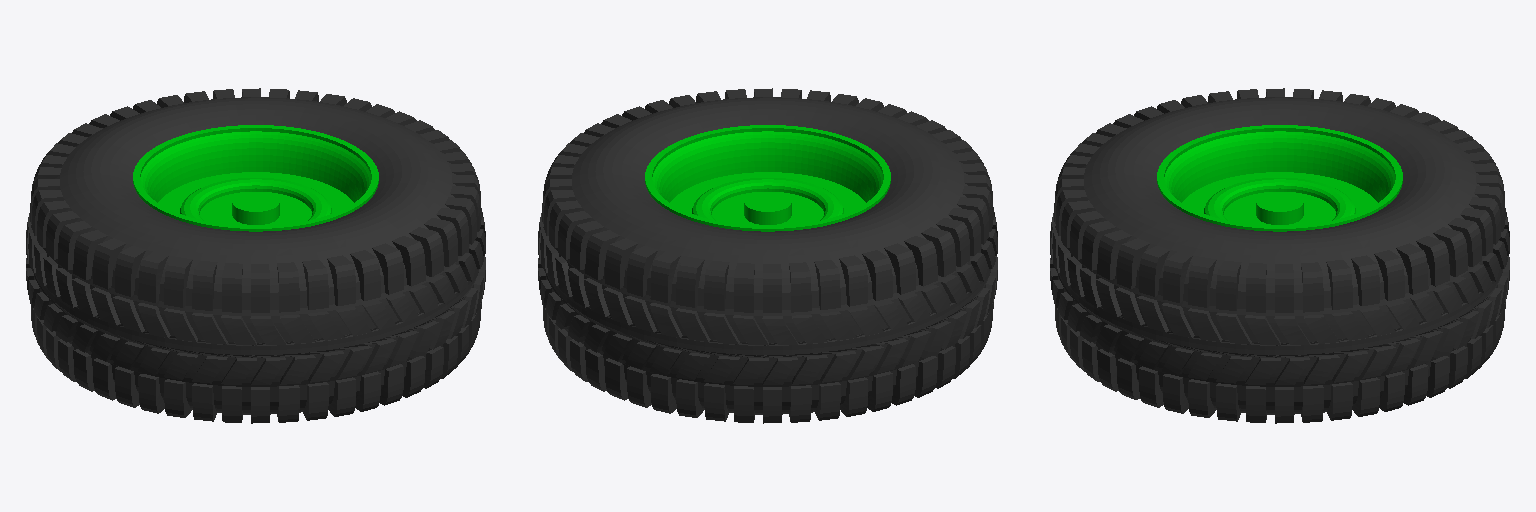
The model's file is wheel_R.obj.
3 views of the same model, side by side, from view 1: azimuth 30°, elevation 25°; view 2: azimuth 150°, elevation 25°; view 3: azimuth 270°, elevation 25° (orthographic).
Parts seen in each view (by area): view 1: Mesh; view 2: Mesh; view 3: Mesh.
Part boxes in pixels (x1,y1,x2,y2): Mesh: (26, 88, 485, 423); Mesh: (538, 88, 997, 423); Mesh: (1050, 88, 1509, 423).
Size of the model in its own units: 1.06 by 0.438 by 1.06.